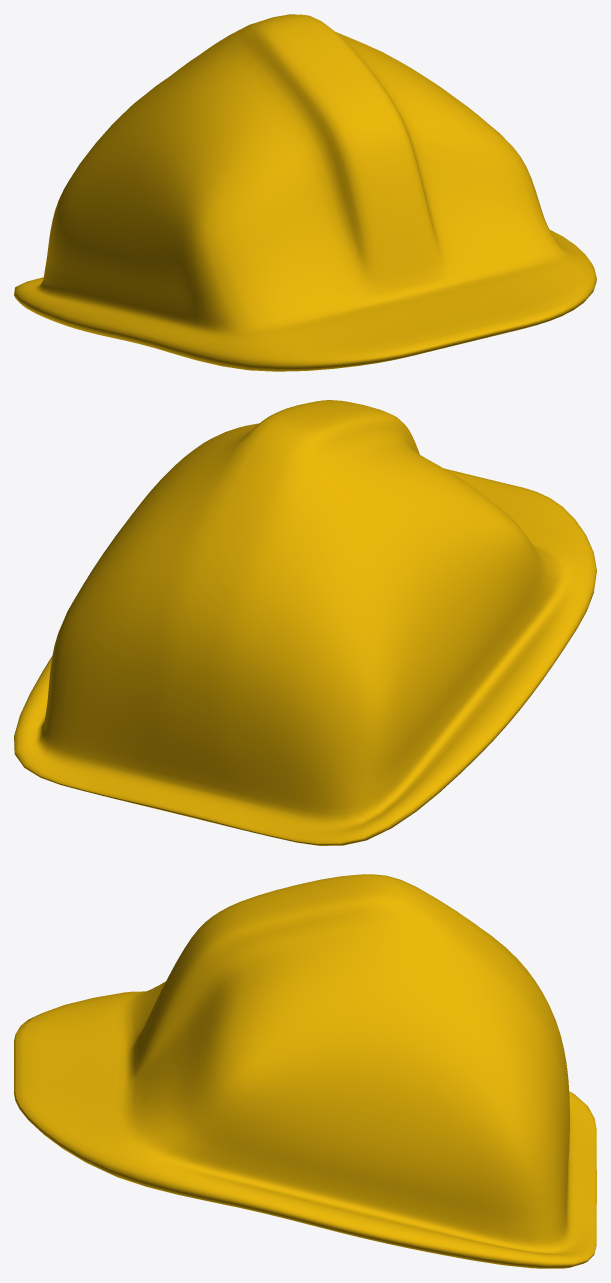
Rendered from Hard Hat.fbx.
3 views of the same model, one above another, from view 1: azimuth 30°, elevation 25°; view 2: azimuth 150°, elevation 25°; view 3: azimuth 270°, elevation 25° (orthographic).
Parts seen in each view (by area): view 1: Hard_Hat_Smooth; view 2: Hard_Hat_Smooth; view 3: Hard_Hat_Smooth.
Boxes of the visible parts, bbox=[...] form: Hard_Hat_Smooth: bbox=[14, 14, 596, 371]; Hard_Hat_Smooth: bbox=[14, 400, 596, 845]; Hard_Hat_Smooth: bbox=[14, 874, 596, 1268].
Size of the model in its own units: 1.74 by 1.21 by 2.06.
